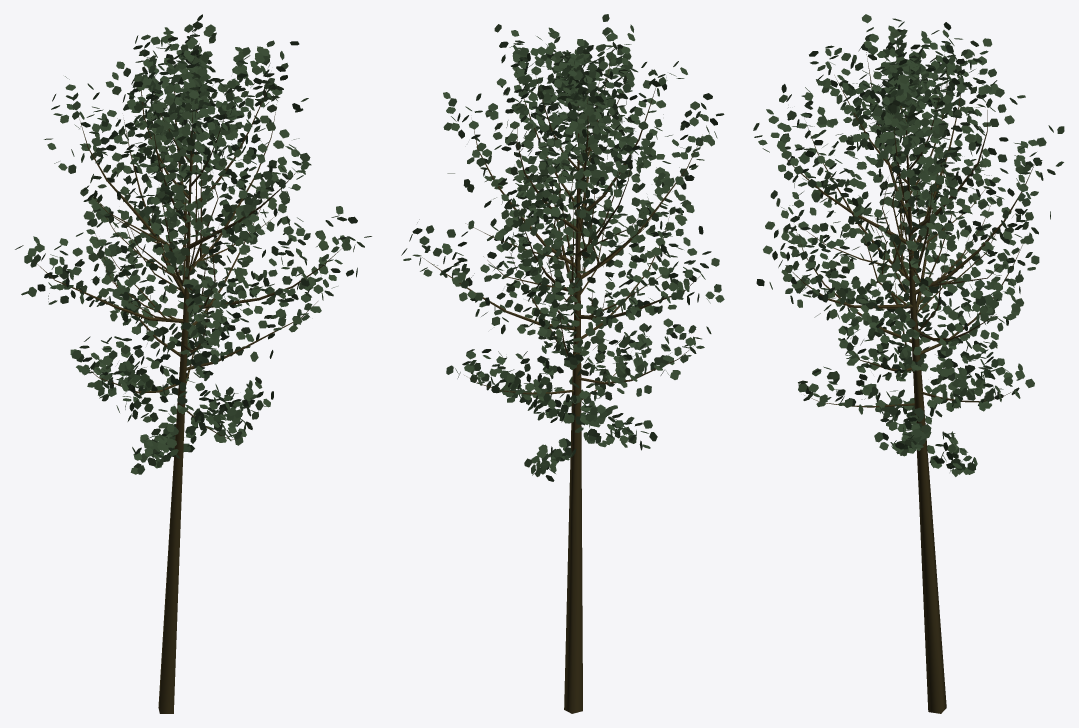
File: tree-tree-009.glb
The picture shows the model from 3 angles, left to right: view 1: azimuth 30°, elevation 25°; view 2: azimuth 150°, elevation 25°; view 3: azimuth 270°, elevation 25°; orthographic projection. The views are drawn at different scales.
Parts seen in each view (by area): view 1: v_tree.009; view 2: v_tree.009; view 3: v_tree.009.
Part boxes in pixels (bbox=[...]): v_tree.009: bbox=[15, 14, 371, 713]; v_tree.009: bbox=[401, 14, 724, 713]; v_tree.009: bbox=[753, 14, 1064, 713].
Bounding box in the file's own units: 7.47 × 16.54 × 6.87.
